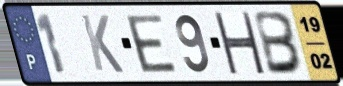1: (36, 12, 70, 76)
9: (175, 13, 210, 75)
B: (252, 9, 306, 77)
E: (123, 12, 180, 74)
H: (211, 10, 267, 76)
K: (78, 13, 126, 76)
